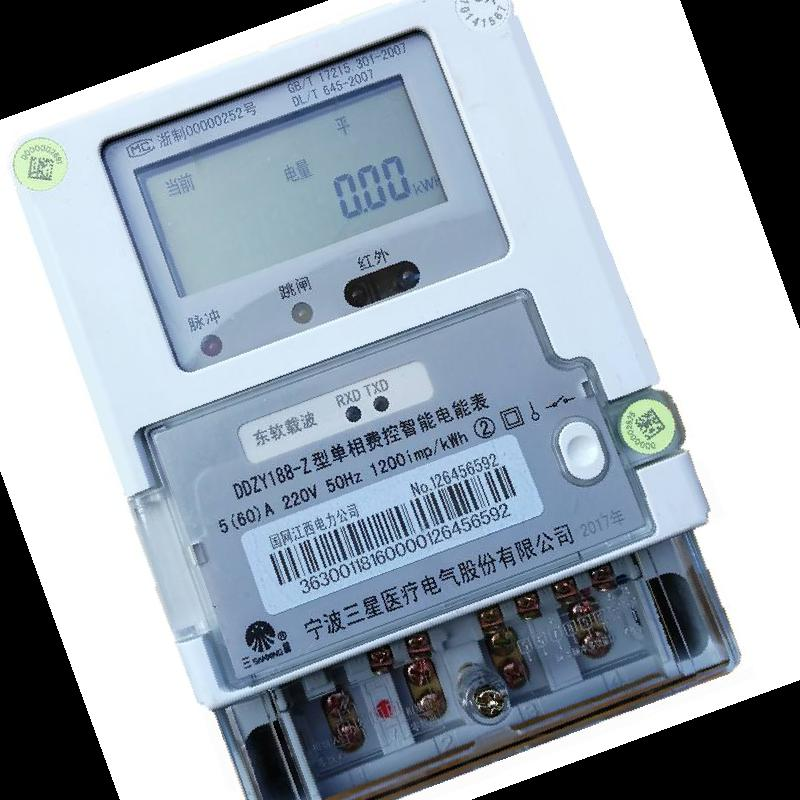digital: (9, 1, 708, 708)
